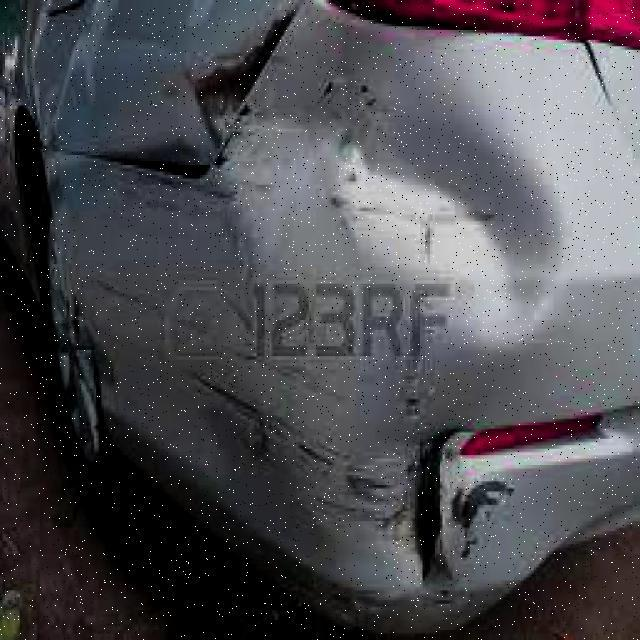car damage: (98, 7, 540, 588), (335, 69, 582, 350)
